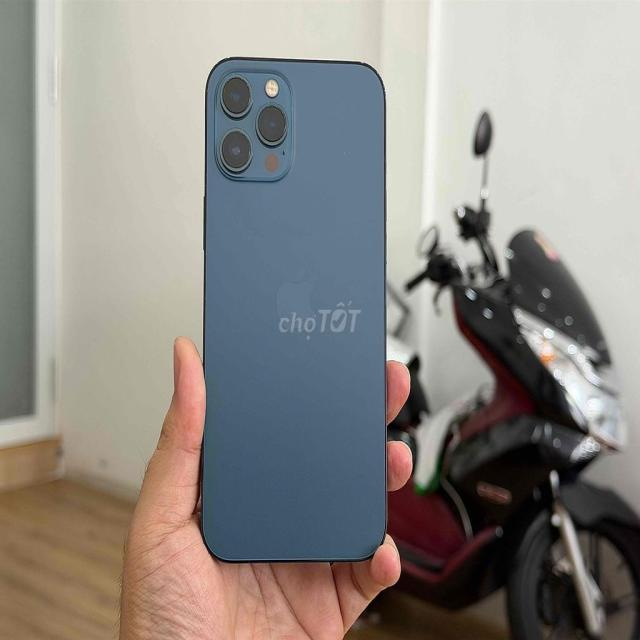gen_12_13: (196, 53, 390, 564)
